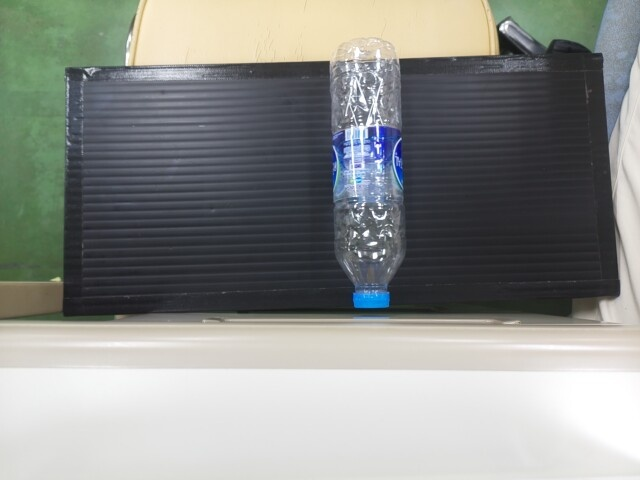plastic_bottle: (327, 40, 404, 310)
